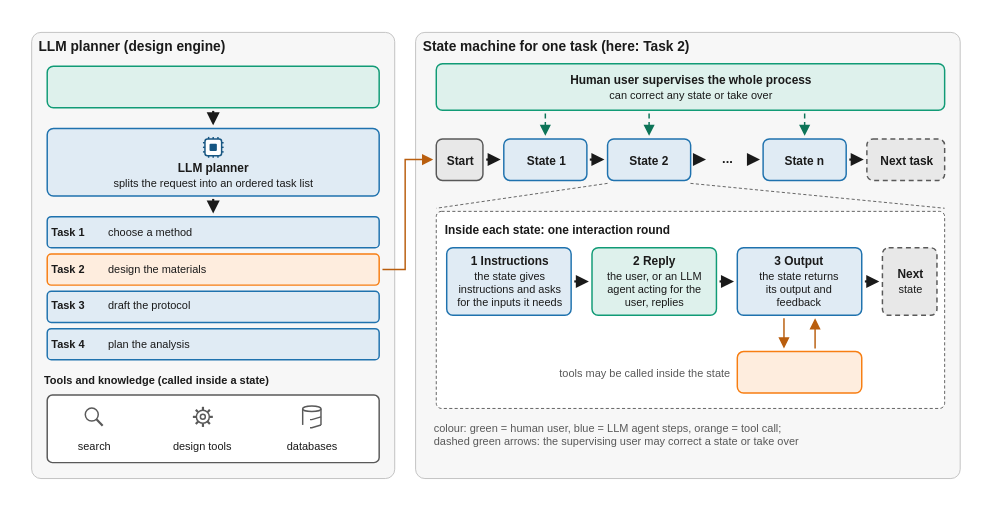
Some shapes in this 992 by 511 pixel diagram are drawn without their labels. Each missing label, with the centre of its shape:
Tool calls: point (799, 371)
User request: plan an experiment: point (212, 86)
